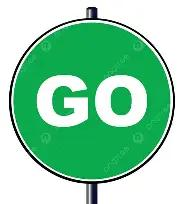Go: (10, 19, 172, 182)
